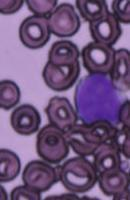L: (75, 72, 125, 123)
